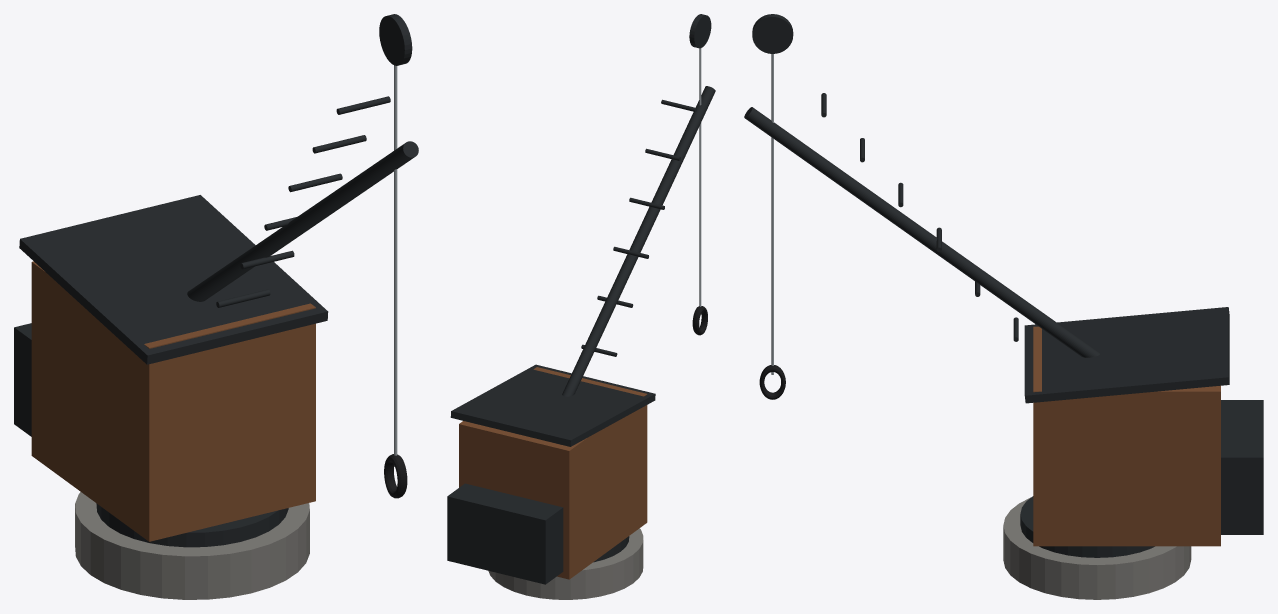
The model's file is harbour-crane.glb.
3 views of the same model, side by side, from view 1: azimuth 30°, elevation 25°; view 2: azimuth 150°, elevation 25°; view 3: azimuth 270°, elevation 25° (orthographic). The views are drawn at different scales.
Visible parts, largest first — view 1: Cube, Cube.001, Cylinder, Cylinder.002, Cylinder.001, Cube.002, Cylinder.011, Cylinder.010, Torus; view 2: Cube, Cube.002, Cube.001, Cylinder, Cylinder.002, Cylinder.011, Cylinder.010, Torus; view 3: Cube, Cube.001, Cylinder, Cylinder.002, Cube.002, Cylinder.001, Cylinder.010, Cylinder.011.
Boxes of the visible parts, x1=… form: Cube: x1=31, y1=261, x2=315, y2=541; Cube.001: x1=19, y1=195, x2=328, y2=364; Cylinder: x1=75, y1=492, x2=309, y2=599; Cylinder.002: x1=187, y1=141, x2=418, y2=301; Cylinder.001: x1=96, y1=503, x2=288, y2=547; Cube.002: x1=14, y1=323, x2=31, y2=436; Cylinder.011: x1=394, y1=65, x2=397, y2=466; Cylinder.010: x1=379, y1=14, x2=412, y2=65; Torus: x1=384, y1=454, x2=407, y2=498; Cube: x1=459, y1=367, x2=647, y2=579; Cube.002: x1=447, y1=483, x2=563, y2=584; Cube.001: x1=450, y1=364, x2=655, y2=446; Cylinder: x1=488, y1=528, x2=643, y2=599; Cylinder.002: x1=562, y1=86, x2=715, y2=396; Cylinder.011: x1=699, y1=48, x2=701, y2=306; Cylinder.010: x1=689, y1=14, x2=711, y2=48; Torus: x1=692, y1=306, x2=707, y2=335; Cube: x1=1033, y1=326, x2=1220, y2=546; Cube.001: x1=1024, y1=307, x2=1229, y2=403; Cylinder: x1=1003, y1=497, x2=1191, y2=599; Cylinder.002: x1=744, y1=107, x2=1099, y2=357; Cube.002: x1=1221, y1=400, x2=1263, y2=534; Cylinder.001: x1=1020, y1=496, x2=1154, y2=557; Cylinder.010: x1=752, y1=14, x2=793, y2=53; Cylinder.011: x1=771, y1=54, x2=773, y2=374.
Bounding box in the file's own units: 2.2 × 7.04 × 6.08.
